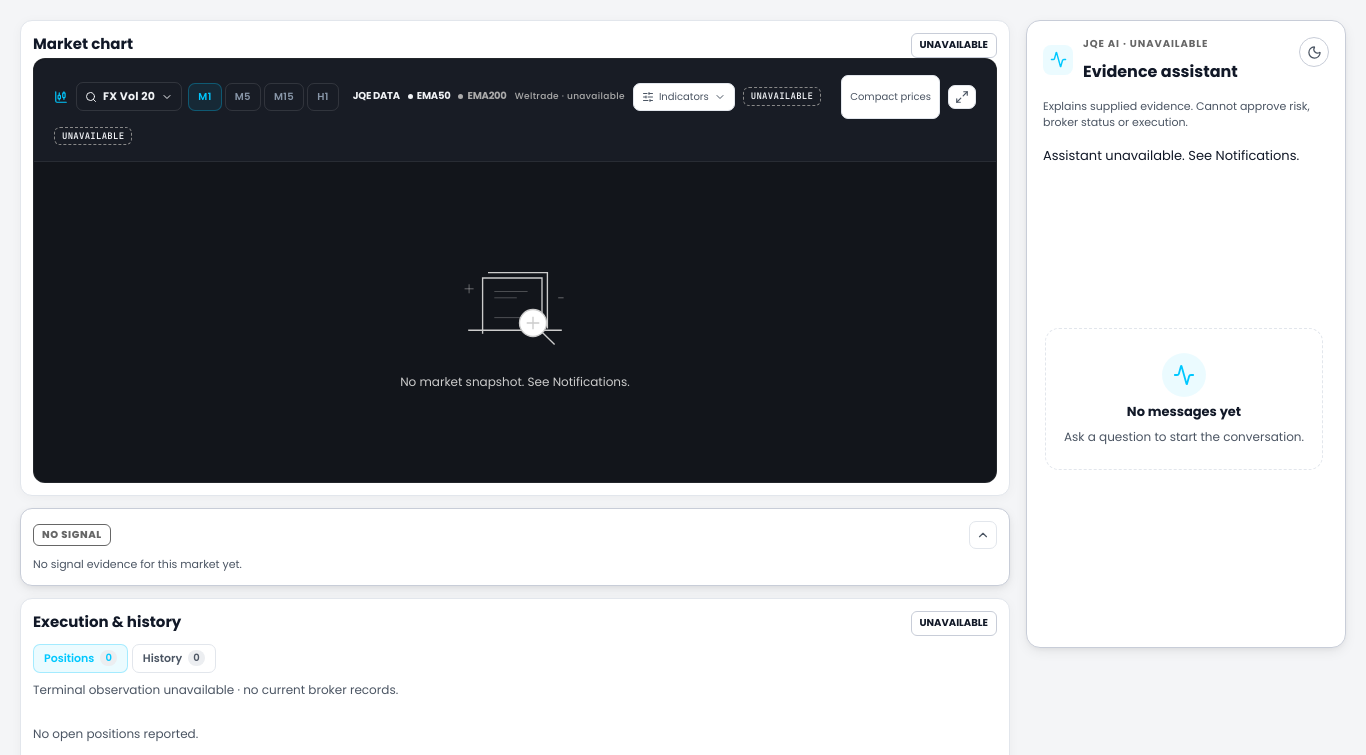
Scenario: Workspace and Settings evidence views › collapses the decision rail card to a pill and reopens it
Click the button with class "chart-decision-collapse" at point(983, 535), box [969,521,997,549]
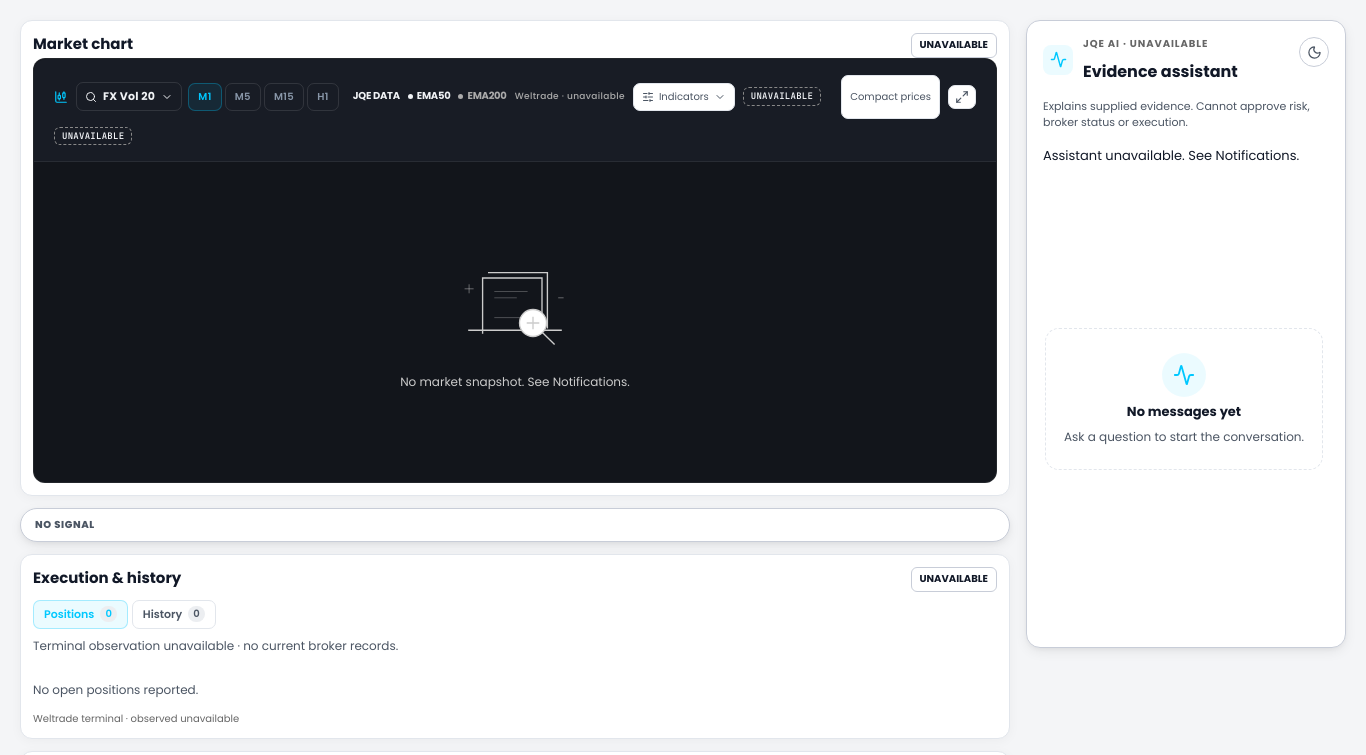
Click the button with class "chart-decision-pill" at point(65, 525), box [20,508,1010,542]
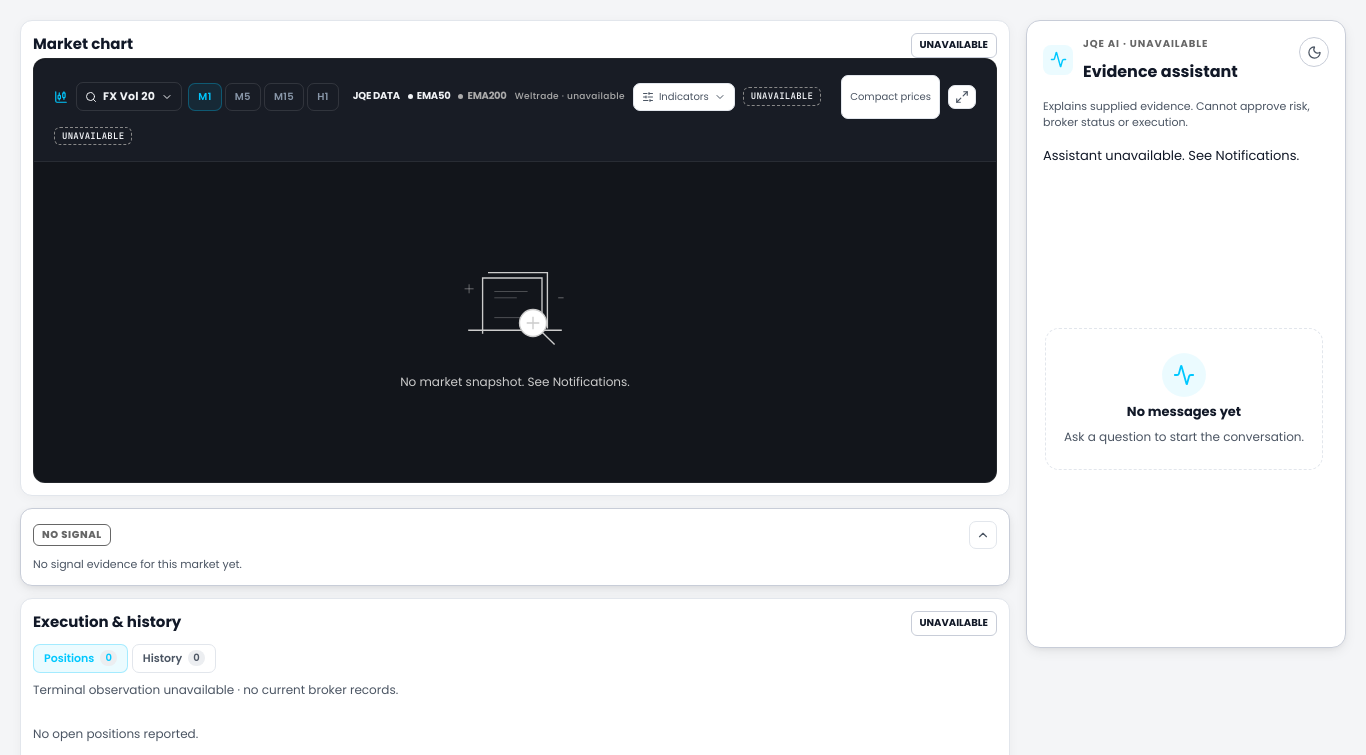
Expected: the element named "Decision card" is shown, [20,508,1010,586]
